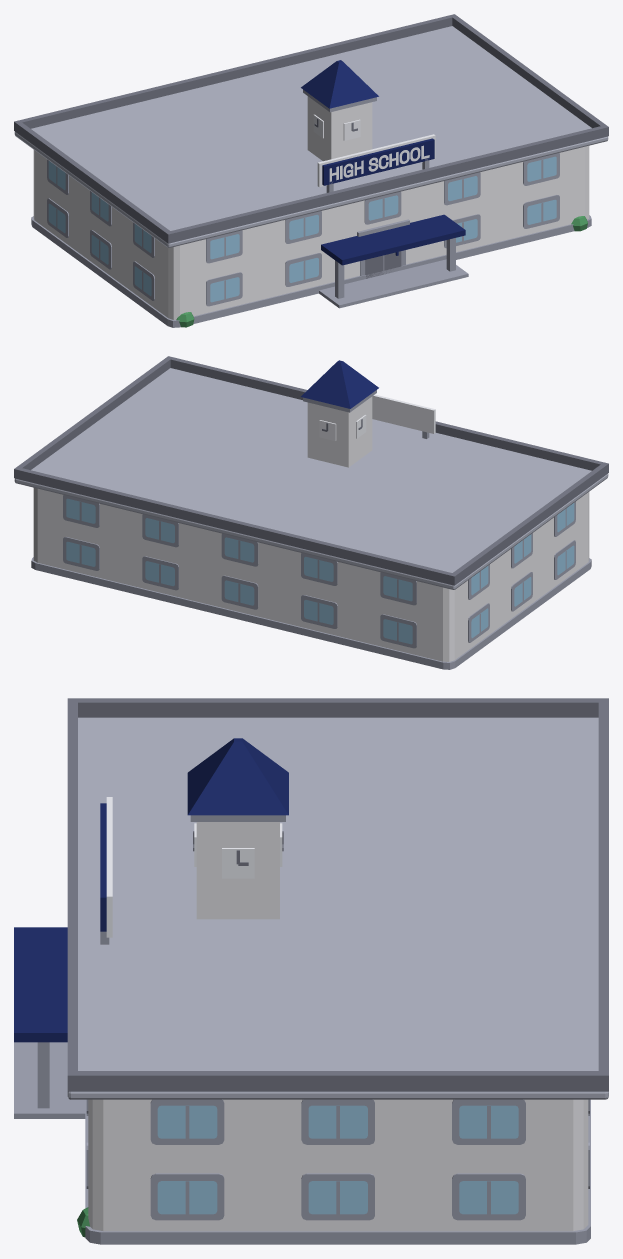
File: high-school-3x2.glb
The picture shows the model from 3 angles, top to bottom: view 1: azimuth 30°, elevation 25°; view 2: azimuth 150°, elevation 25°; view 3: azimuth 270°, elevation 25°; orthographic projection. The views are drawn at different scales.
Parts seen in each view (by area): view 1: high-school-3x2; view 2: high-school-3x2; view 3: high-school-3x2.
Part boxes in pixels (x1,y1,x2,y2): high-school-3x2: (14, 14, 608, 327); high-school-3x2: (14, 356, 608, 669); high-school-3x2: (14, 698, 608, 1244).
Size of the model in its own units: 3 by 1.2 by 2.
Materials: 1 (1 with a texture image).
